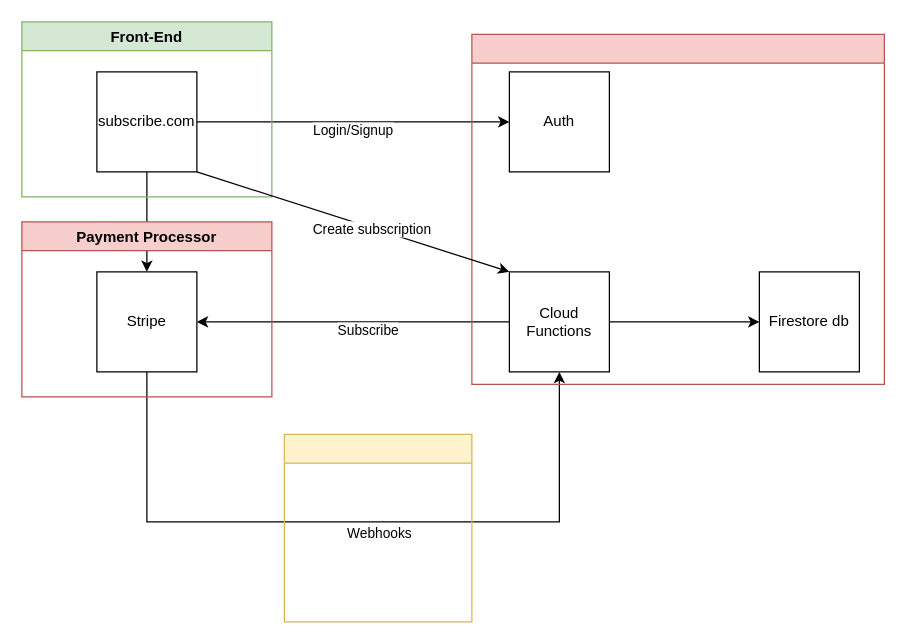
Some shapes in this 906 by 644 pixel diagram are drawn without their labels. The shapes that lost their labels are listed below. From the top down, each one's centre as x and y in pixels, then its label:
At [677,208]: "Google Firebase".
At [377,527]: "Future Implementation".
